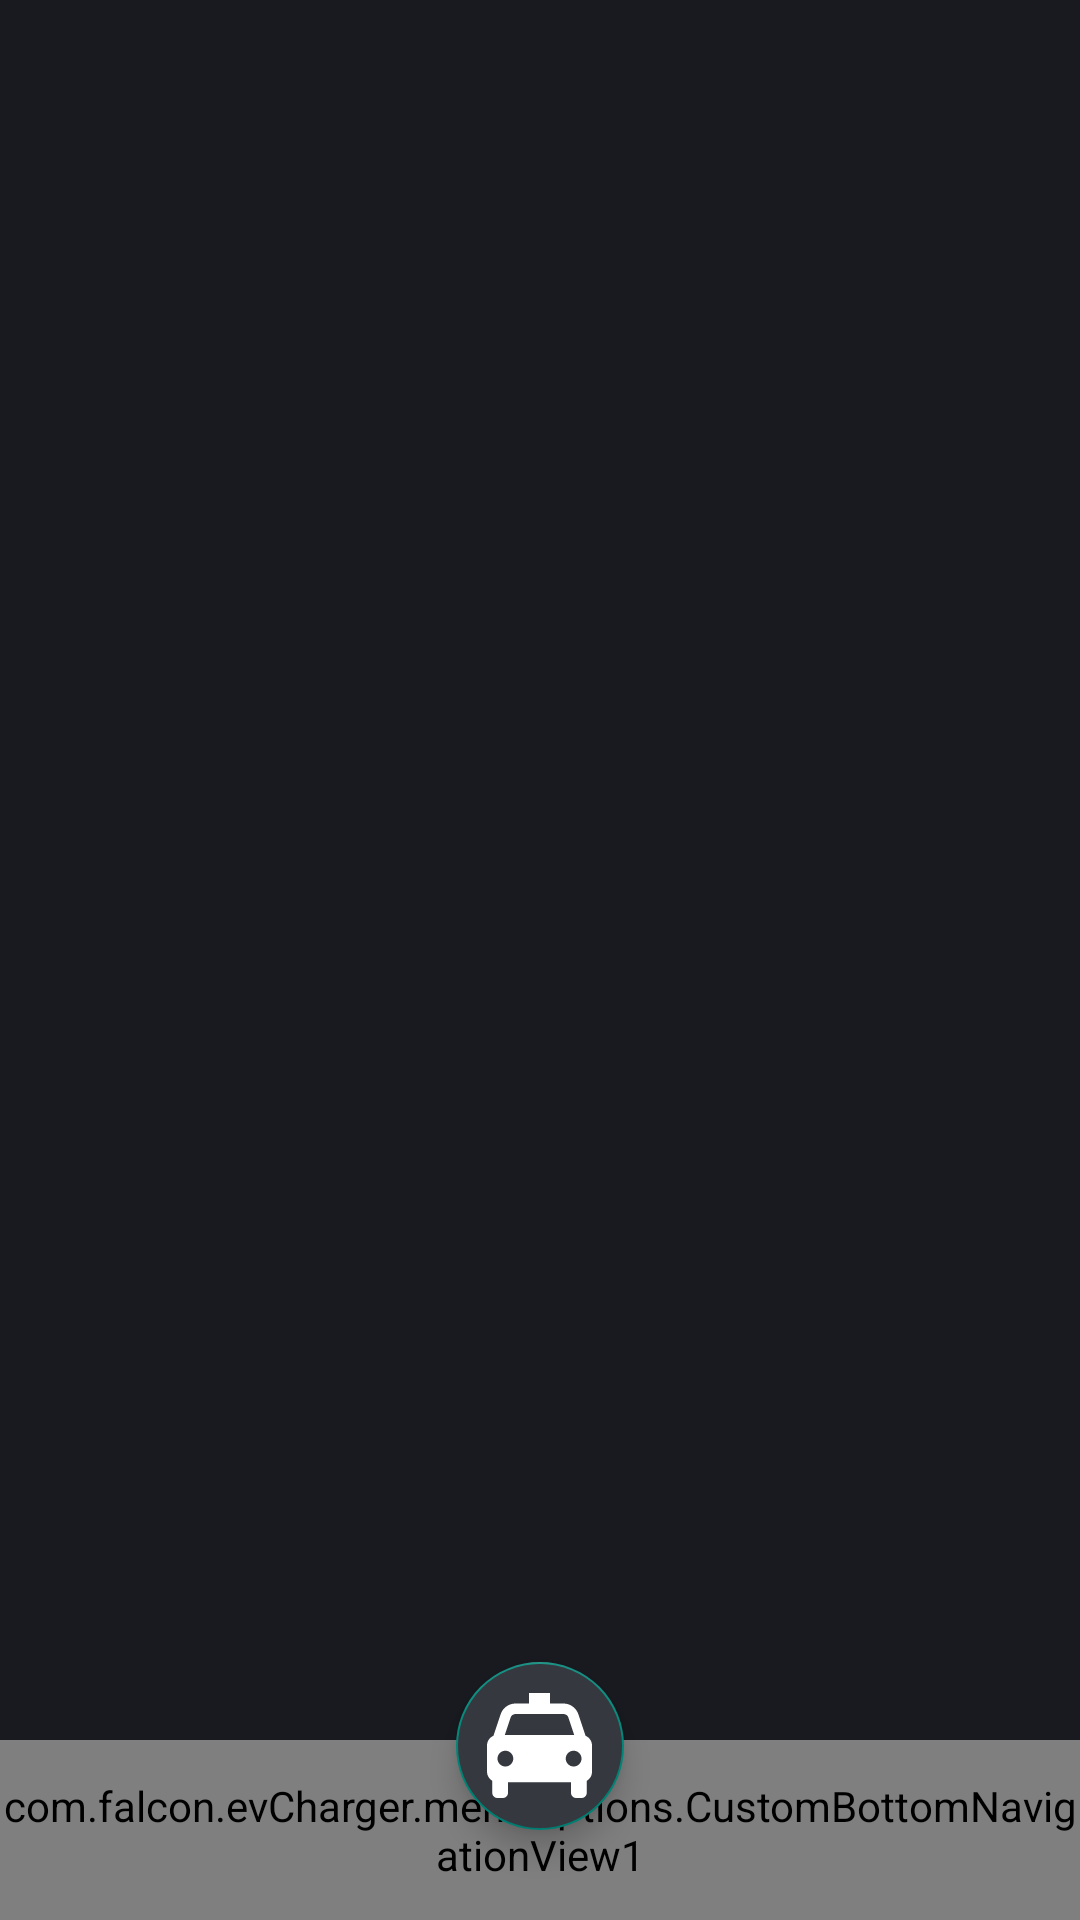

Where to tap for icons on this 1080px×1920px app screen, as (x=x, y=y):
vehicle: (x=540, y=1746)
